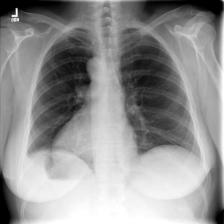normal: (22, 21, 208, 193)
